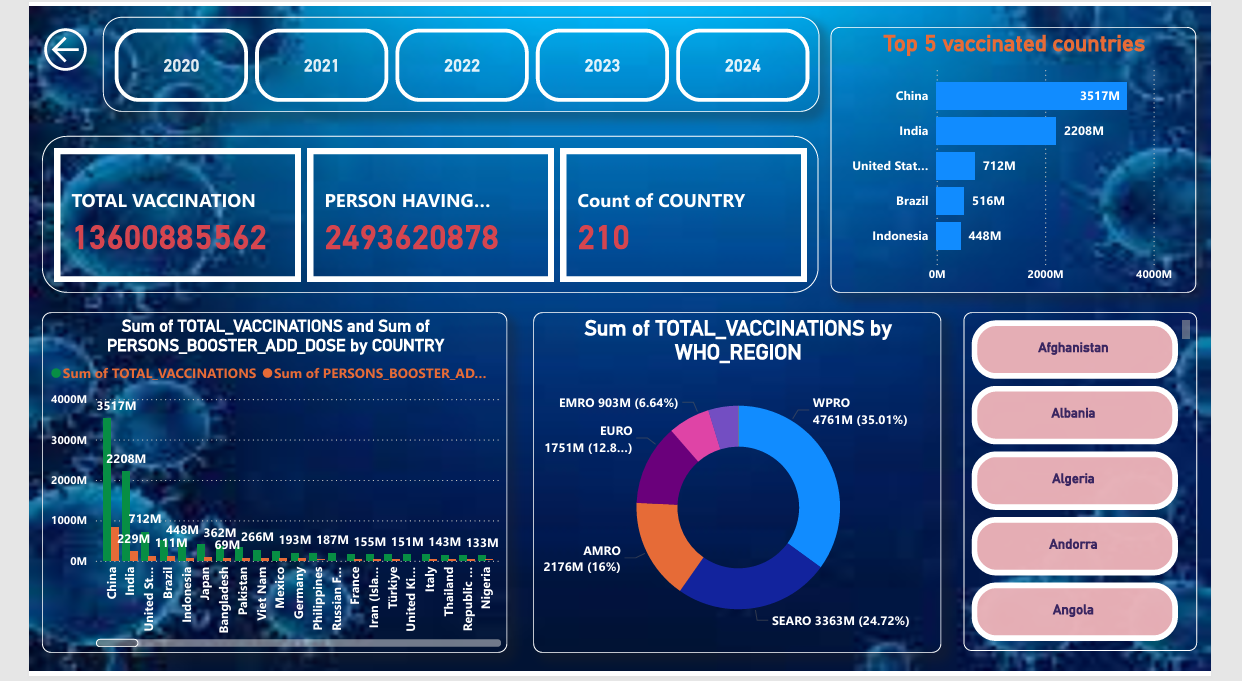

This screenshot's page, from the dashboard's own definition file:
{"tool":"powerbi","page":{"name":"Vaccination","canvas":[1280,720],"ordinal":2},"visuals":[{"type":"clusteredColumnChart","fields":{"Category":["vaccination-data (1).COUNTRY"],"Y":["Sum(vaccination-data (1).TOTAL_VACCINATIONS)","Sum(vaccination-data (1).PERSONS_BOOSTER_ADD_DOSE)"]},"box":[14.3,330.8,504.2,369],"z":0},{"type":"donutChart","fields":{"Category":["vaccination-data (1).WHO_REGION"],"Y":["Sum(vaccination-data (1).TOTAL_VACCINATIONS)"]},"box":[545.6,330.8,442.2,369],"z":1000},{"type":"cardVisual","fields":{"Data":["Sum(vaccination-data (1).TOTAL_VACCINATIONS)","Sum(vaccination-data (1).PERSONS_BOOSTER_ADD_DOSE)","CountNonNull(vaccination-data (1).COUNTRY)"]},"box":[14.3,140,841.4,170.2],"z":2000},{"type":"advancedSlicerVisual","fields":{"Values":["WHO-COVID-19-global-data (3).Date_reported.Variation.Date Hierarchy.Year"]},"box":[79.5,11.1,776.2,103.4],"z":3000},{"type":"barChart","title":"Top 5 vaccinated countries","fields":{"Category":["vaccination-data (1).COUNTRY"],"Y":["Sum(vaccination-data (1).TOTAL_VACCINATIONS)"]},"box":[868.5,22.3,396.1,287.9],"z":4000},{"type":"advancedSlicerVisual","fields":{"Values":["vaccination-data (1).COUNTRY"]},"box":[1011.6,330.8,252.9,367.4],"z":5000},{"type":"actionButton","box":[0,0,79.5,92.3],"z":6000}]}

Visuals, with their boxes in screenshot pixels (x1, y1, x2, y2), scaled from the page's 1280x720 canvas onto the 1242x681 screenshot:
clusteredColumnChart - vaccination-data (1).COUNTRY x Sum(vaccination-data (1).TOTAL_VACCINATIONS): (x1=14, y1=313, x2=503, y2=662)
donutChart - vaccination-data (1).WHO_REGION x Sum(vaccination-data (1).TOTAL_VACCINATIONS): (x1=529, y1=313, x2=958, y2=662)
cardVisual - Sum(vaccination-data (1).TOTAL_VACCINATIONS) x Sum(vaccination-data (1).PERSONS_BOOSTER_ADD_DOSE): (x1=14, y1=132, x2=830, y2=293)
advancedSlicerVisual - WHO-COVID-19-global-data (3).Date_reported.Variation.Date Hierarchy.Year: (x1=77, y1=10, x2=830, y2=108)
"Top 5 vaccinated countries" barChart: (x1=843, y1=21, x2=1227, y2=293)
advancedSlicerVisual - vaccination-data (1).COUNTRY: (x1=982, y1=313, x2=1227, y2=660)
actionButton: (x1=0, y1=0, x2=77, y2=87)
